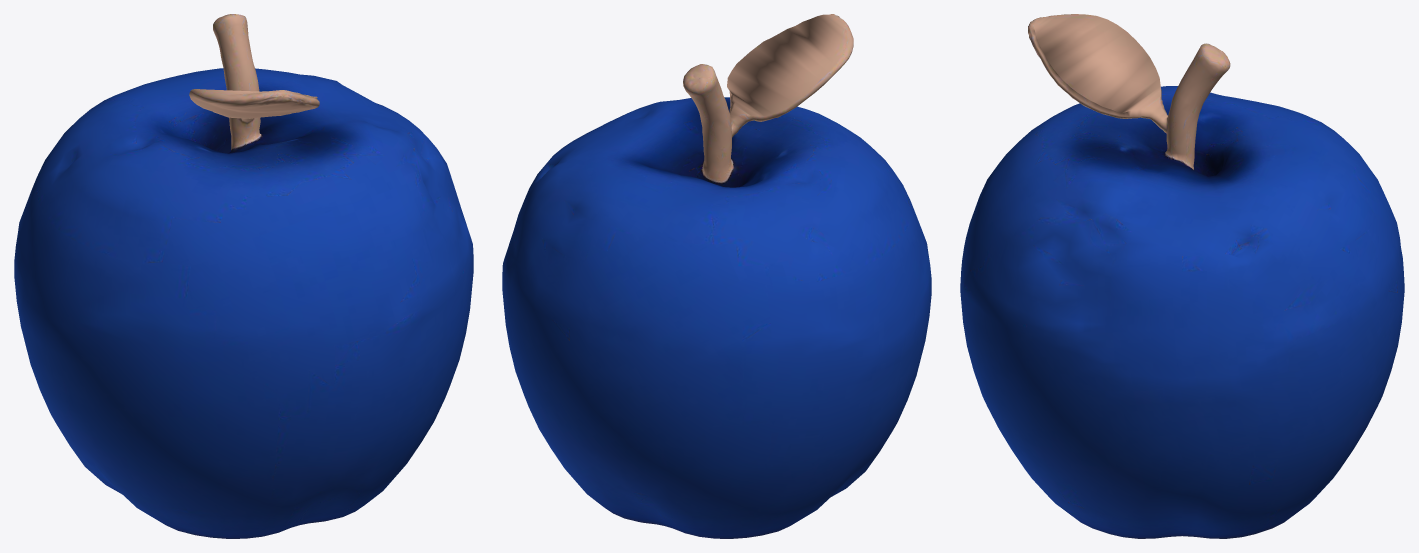
3 renders of one model, left to right at view 1: azimuth 30°, elevation 25°; view 2: azimuth 150°, elevation 25°; view 3: azimuth 270°, elevation 25°, orthographic. The views are drawn at different scales.
Parts seen in each view (by area): view 1: tripo_node_130c0adc-0f67-44a4-b3f9-e50bfc068d34; view 2: tripo_node_130c0adc-0f67-44a4-b3f9-e50bfc068d34; view 3: tripo_node_130c0adc-0f67-44a4-b3f9-e50bfc068d34.
Part boxes in pixels (box(x1,y1,x2,y2)): tripo_node_130c0adc-0f67-44a4-b3f9-e50bfc068d34: box(14, 14, 473, 538); tripo_node_130c0adc-0f67-44a4-b3f9-e50bfc068d34: box(502, 14, 931, 538); tripo_node_130c0adc-0f67-44a4-b3f9-e50bfc068d34: box(960, 14, 1404, 538).
Size of the model in its own units: 0.9022 by 1 by 0.8982.
1 material, 1 textured.
